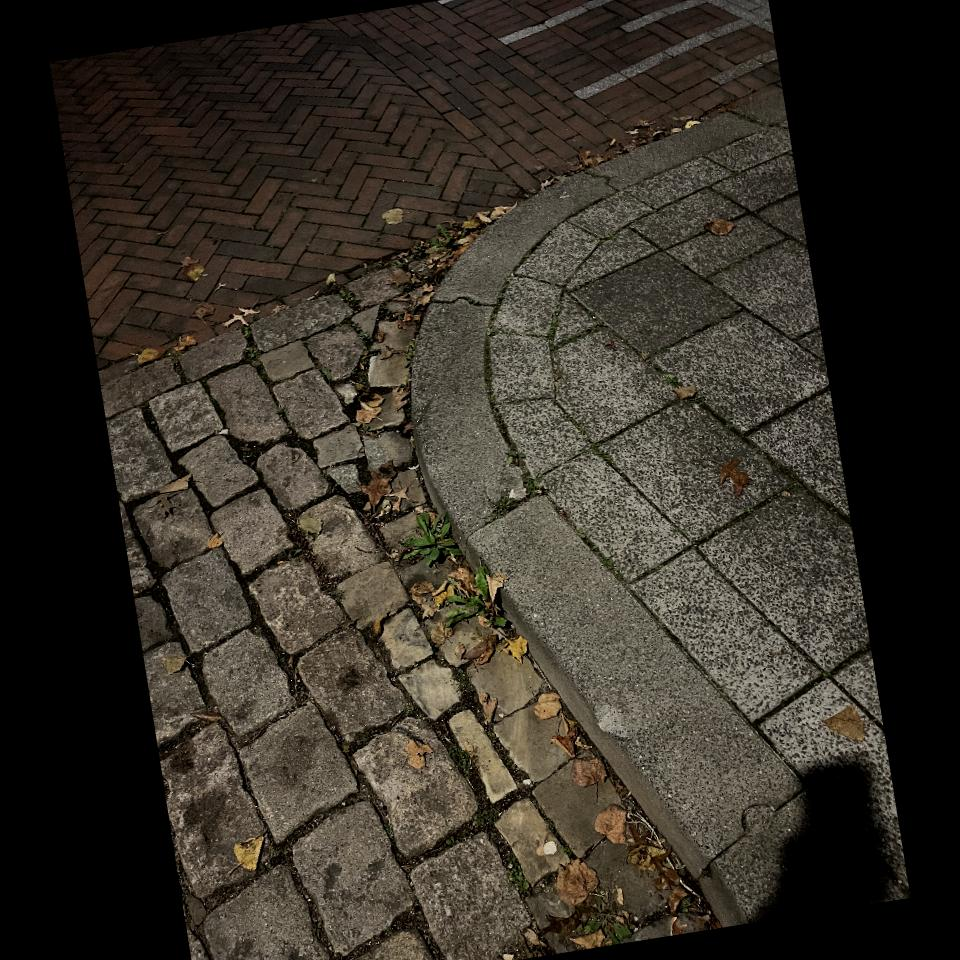weed: (446, 566, 512, 628)
